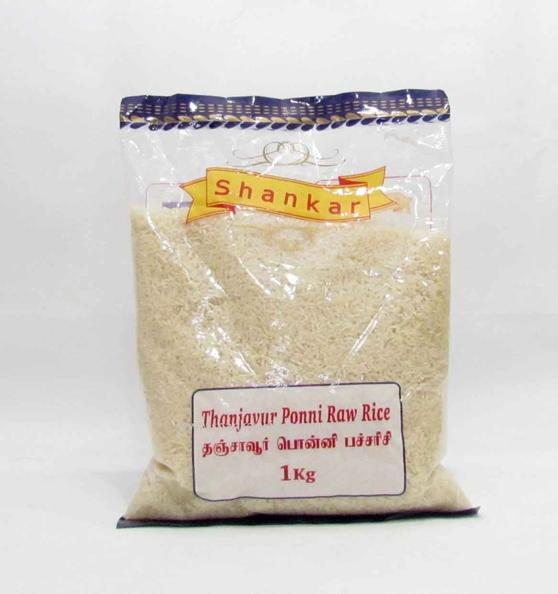rice: (117, 169, 493, 547)
